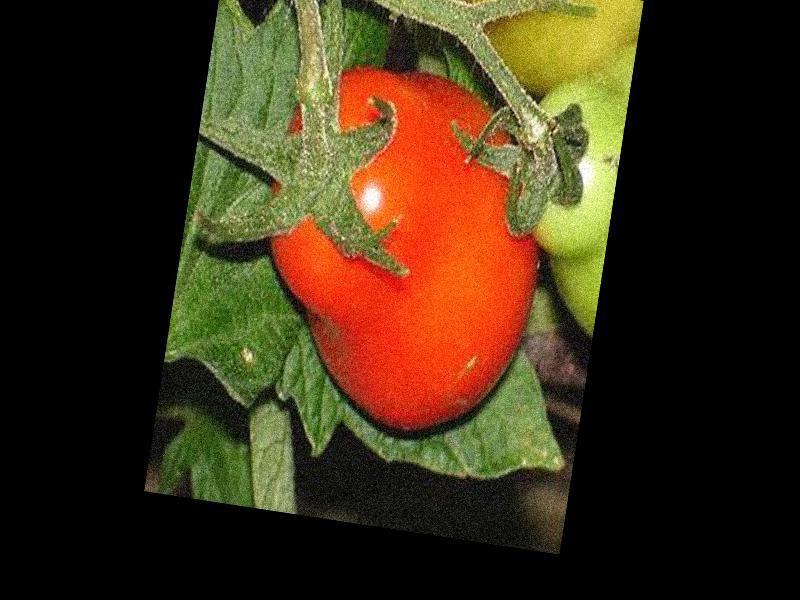Tomato: (240, 56, 563, 447)
